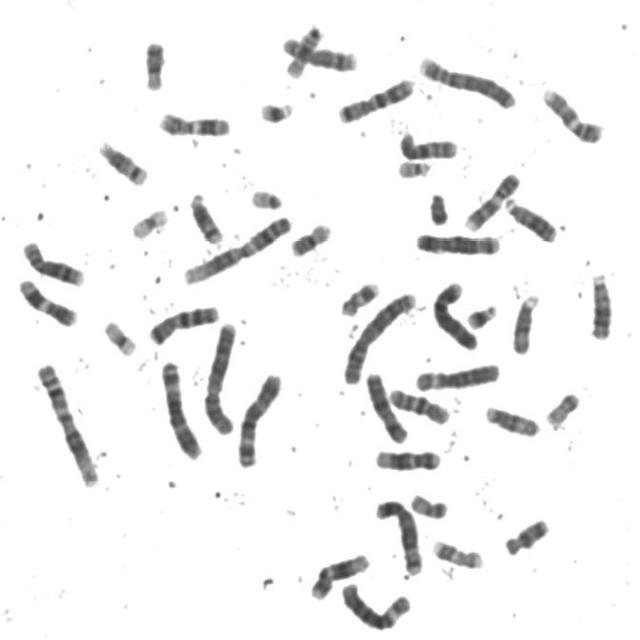A1: (32, 356, 102, 489), (177, 208, 294, 286)
A2: (337, 285, 418, 387), (198, 315, 240, 436)
A3: (231, 365, 284, 470), (154, 354, 204, 461)
B4: (413, 48, 518, 110), (428, 274, 480, 352)
B5: (370, 492, 425, 577), (409, 226, 503, 257)
C10: (384, 382, 452, 426), (394, 126, 460, 161)
C11: (12, 273, 80, 328), (152, 105, 233, 138)
C12: (304, 546, 372, 601), (369, 442, 443, 473)
C6: (336, 577, 413, 632), (409, 356, 501, 393)
C7: (332, 71, 417, 124), (143, 298, 221, 346)
C8: (16, 234, 86, 288), (276, 29, 360, 73)
C9: (537, 80, 606, 145), (459, 166, 522, 233)
D13: (500, 191, 559, 244), (584, 266, 615, 342)
D14: (92, 135, 150, 187), (184, 186, 225, 246)
D15: (506, 288, 542, 357), (480, 399, 542, 438)
E16: (280, 18, 326, 79), (285, 216, 333, 258)
E17: (427, 533, 486, 570), (335, 275, 382, 318)
E18: (499, 511, 551, 557), (138, 34, 168, 92)
F19: (125, 202, 170, 241), (98, 314, 138, 357)
F20: (541, 385, 582, 429), (404, 487, 450, 521)
G21: (254, 94, 295, 125), (461, 298, 499, 331)
G22: (244, 182, 285, 211), (392, 154, 434, 179)
X: (360, 366, 410, 444)
Y: (424, 186, 451, 227)
